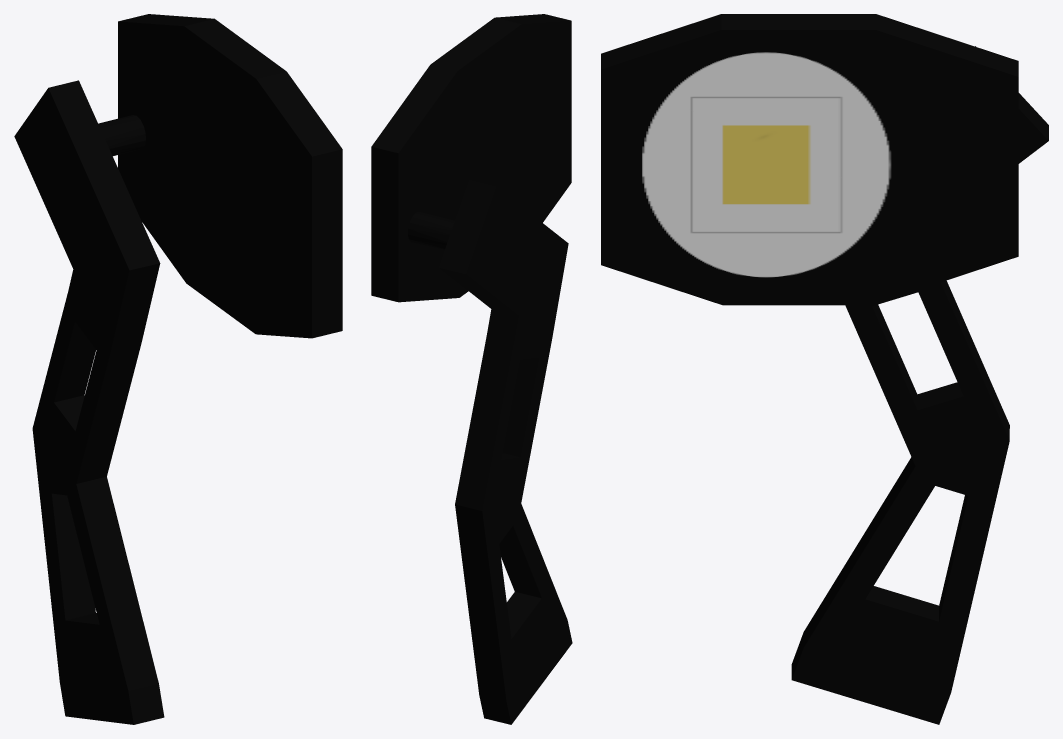
The model's file is mola_auv_lightR.dae.
3 views of the same model, side by side, from view 1: azimuth 30°, elevation 25°; view 2: azimuth 150°, elevation 25°; view 3: azimuth 270°, elevation 25° (orthographic). The views are drawn at different scales.
Visible parts, largest first — view 1: LightL; view 2: LightL; view 3: LightL.
Part boxes in pixels (left/top/right/bottom): LightL: left=14, top=14, right=342, bottom=724; LightL: left=371, top=14, right=572, bottom=724; LightL: left=601, top=14, right=1048, bottom=724.
Size of the model in its own units: 0.0394 by 0.118 by 0.2157.
Materials: 1 (1 with a texture image).
